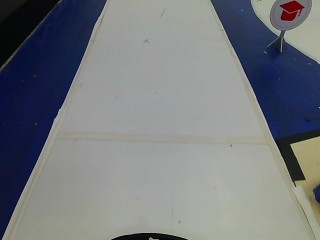school: (267, 0, 311, 35)
